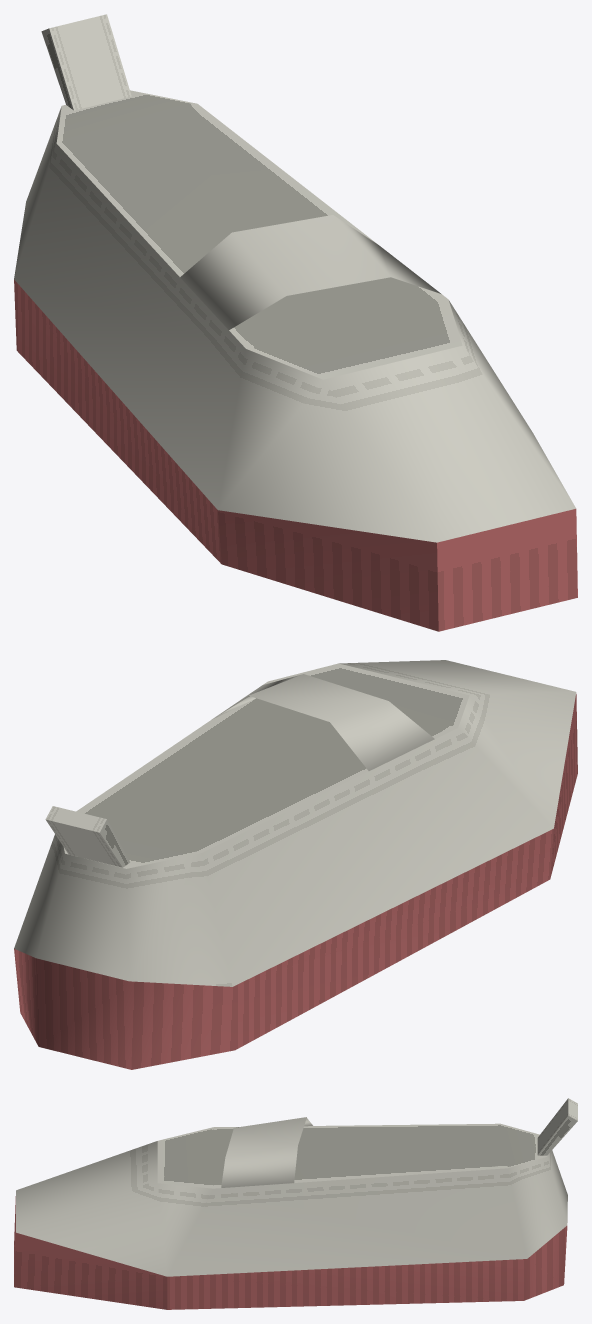
File: 0417_Indoor_Shoes.glb
3 renders of one model, top to bottom at view 1: azimuth 30°, elevation 25°; view 2: azimuth 150°, elevation 25°; view 3: azimuth 270°, elevation 25°, orthographic. The views are drawn at different scales.
Visible parts, largest first — view 1: part_0; view 2: part_0; view 3: part_0.
Boxes of the visible parts, bbox=[...] form: part_0: bbox=[14, 14, 577, 631]; part_0: bbox=[14, 660, 577, 1069]; part_0: bbox=[14, 1098, 577, 1309].
Size of the model in its own units: 0.0578 by 0.0462 by 0.1439.
1 material, 1 textured.
